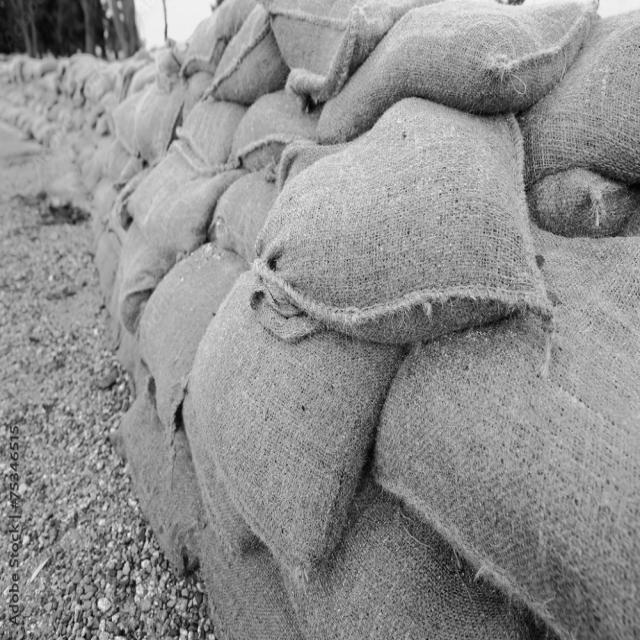sack: (372, 219, 640, 640), (250, 97, 553, 342), (181, 268, 402, 580), (284, 476, 534, 640), (316, 1, 599, 144), (525, 11, 640, 237), (135, 241, 250, 440), (110, 377, 199, 578), (124, 139, 249, 262), (266, 1, 407, 100), (204, 3, 289, 106), (225, 86, 312, 167), (208, 166, 278, 261), (176, 92, 245, 166), (133, 82, 183, 165)
